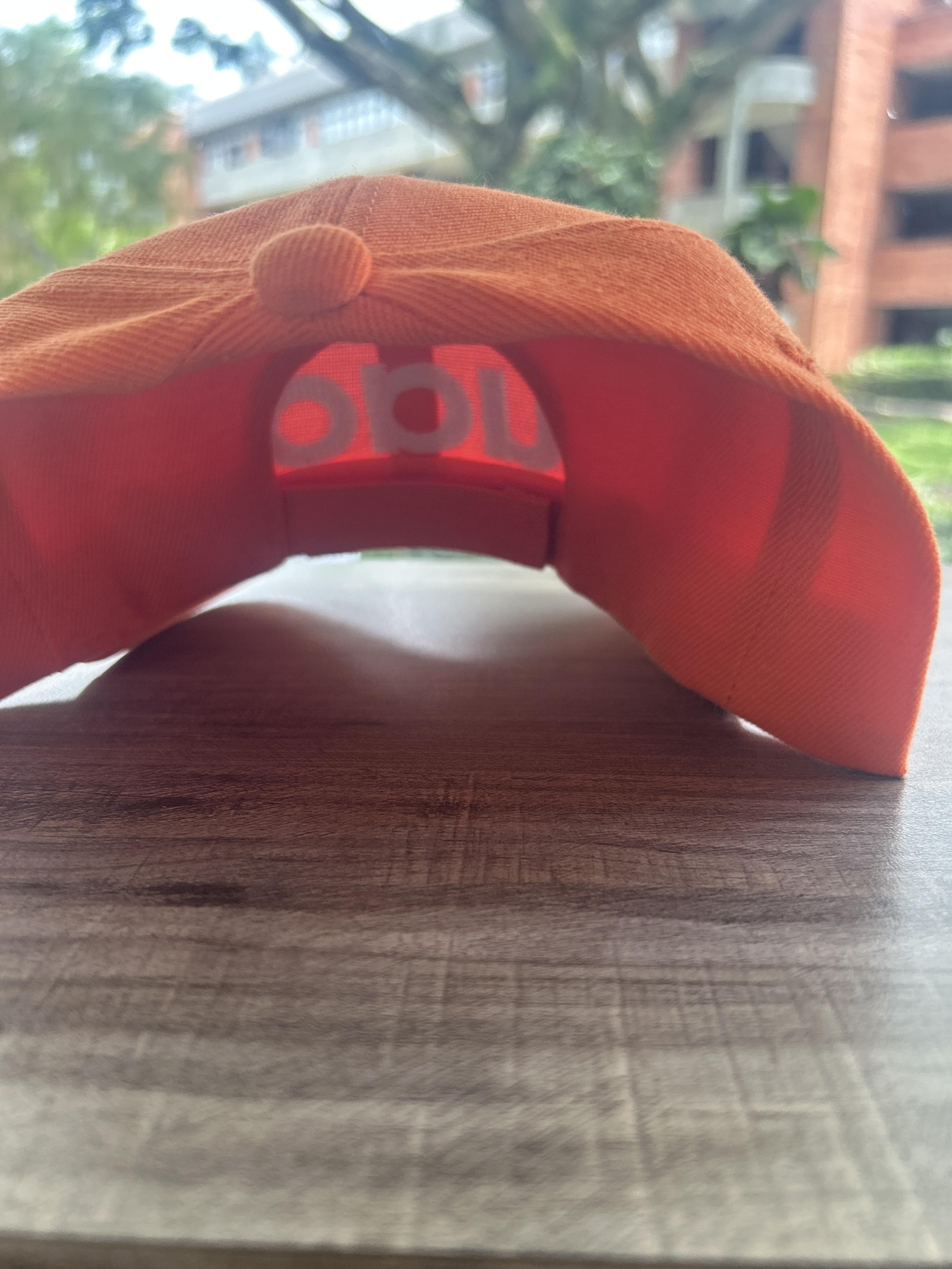gorra: (0, 175, 939, 775)
